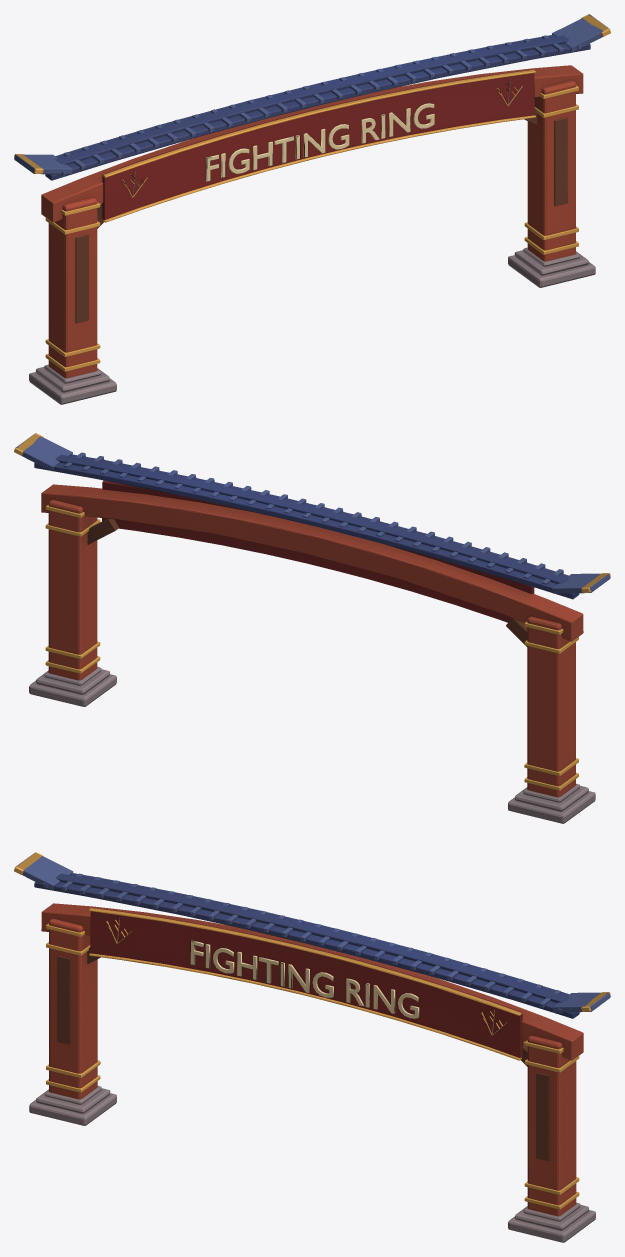
The model's file is Fighting_Ring_Gate_LOD1.glb.
3 renders of one model, top to bottom at view 1: azimuth 30°, elevation 25°; view 2: azimuth 150°, elevation 25°; view 3: azimuth 330°, elevation 25°, orthographic.
Parts seen in each view (by area): view 1: Beast Dojo Fighting Ring Gateway LOD1; view 2: Beast Dojo Fighting Ring Gateway LOD1; view 3: Beast Dojo Fighting Ring Gateway LOD1.
Part boxes in pixels (x1,y1,x2,y2): Beast Dojo Fighting Ring Gateway LOD1: (14,14,610,404); Beast Dojo Fighting Ring Gateway LOD1: (14,433,610,823); Beast Dojo Fighting Ring Gateway LOD1: (14,852,610,1242).
Bounding box in the file's own units: 28.56 × 11.27 × 2.82.
Materials: 1 (1 with a texture image).
